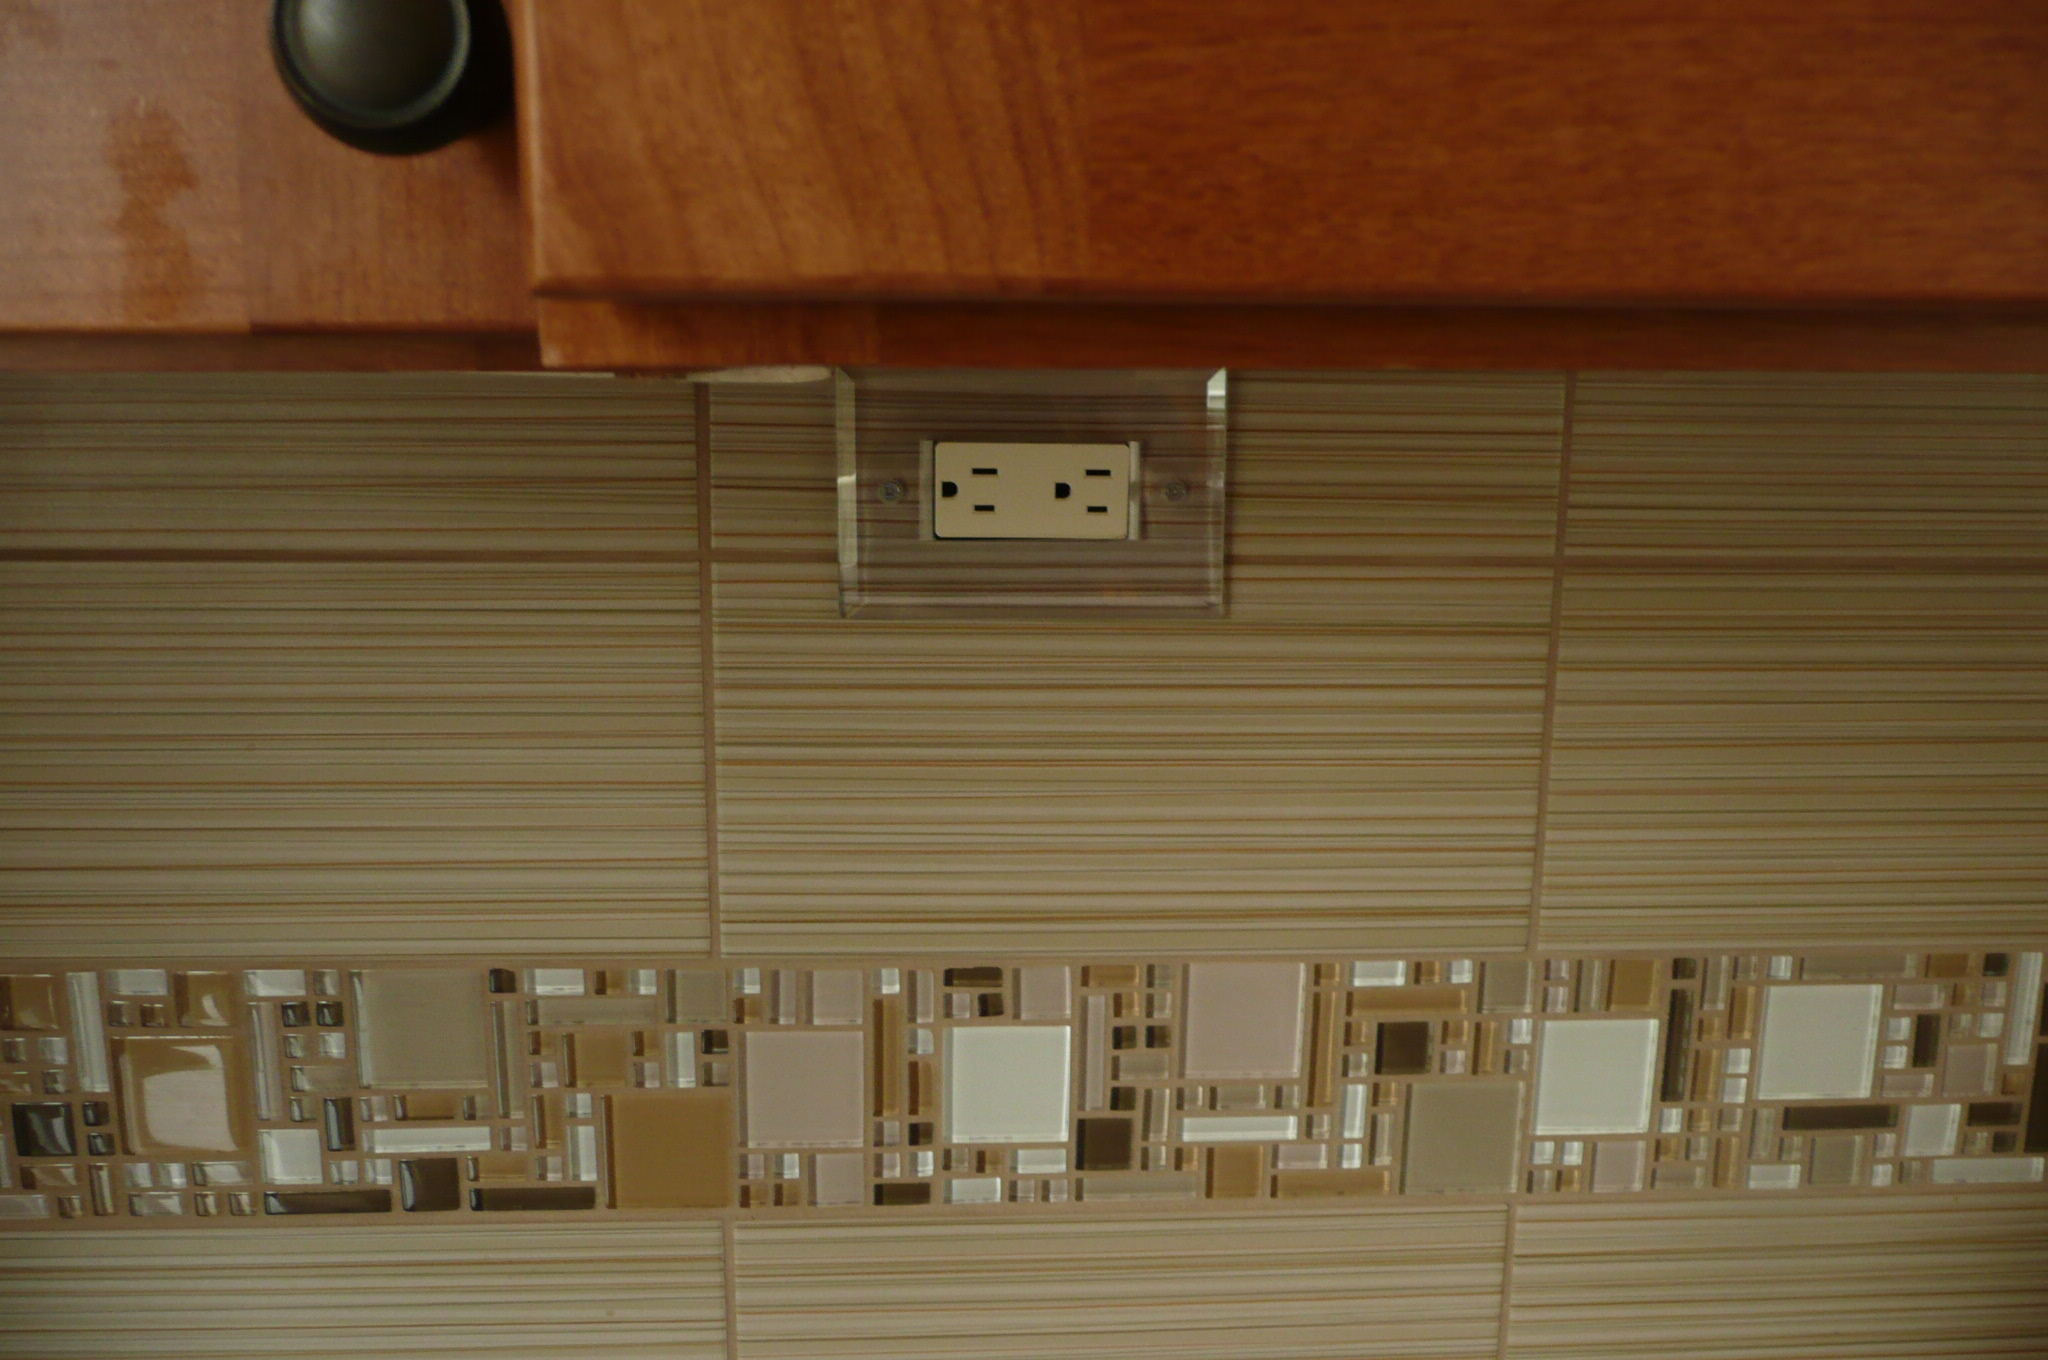outlet: (933, 451, 1013, 527), (1048, 458, 1126, 531)
